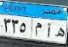3: (3, 16, 12, 32), (11, 17, 18, 33)
5: (20, 21, 26, 33)
أ: (45, 21, 53, 38)
م: (35, 19, 43, 37)
ه: (52, 25, 64, 40)
